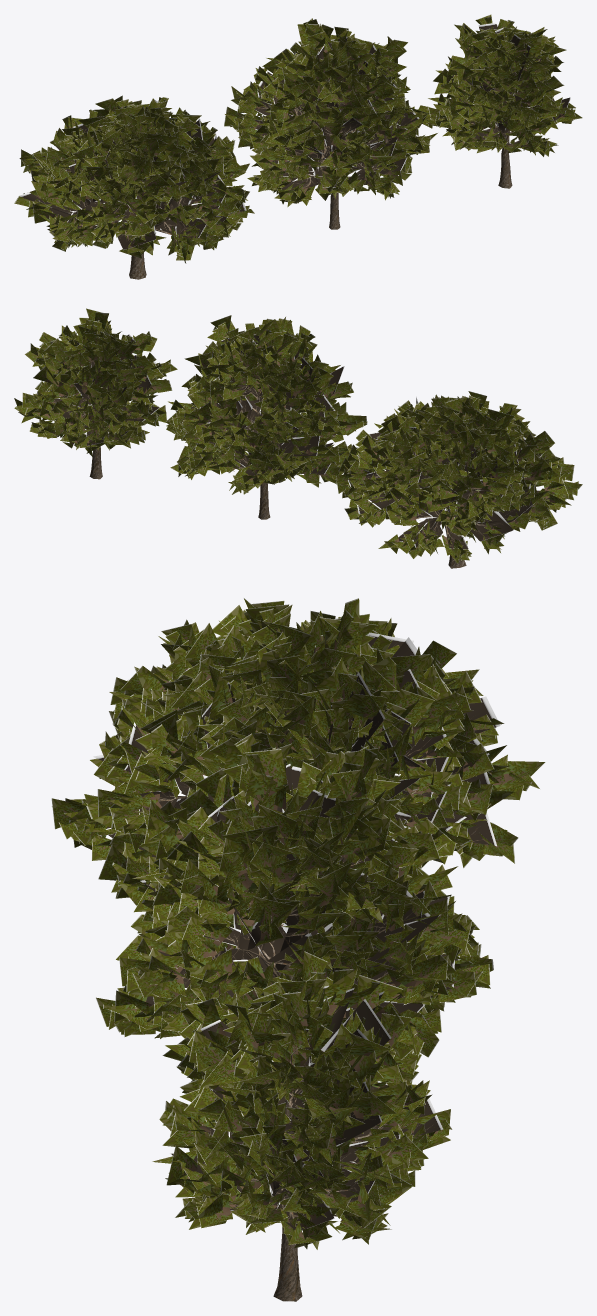
The picture shows the model from 3 angles, top to bottom: view 1: azimuth 30°, elevation 25°; view 2: azimuth 150°, elevation 25°; view 3: azimuth 270°, elevation 25°; orthographic projection. The views are drawn at different scales.
Parts seen in each view (by area): view 1: Leaf_6_3, Bark_9_2; view 2: Leaf_6_3, Bark_9_2; view 3: Leaf_6_3, Bark_9_2.
Boxes of the visible parts, <box> form: Leaf_6_3: <box>14,14,582,263</box>; Bark_9_2: <box>117,79,521,279</box>; Leaf_6_3: <box>14,308,582,563</box>; Bark_9_2: <box>84,363,531,568</box>; Leaf_6_3: <box>51,598,545,1249</box>; Bark_9_2: <box>177,796,389,1301</box>.
Size of the model in its own units: 21645 by 7502 by 8762.
3 materials, 3 textured.
